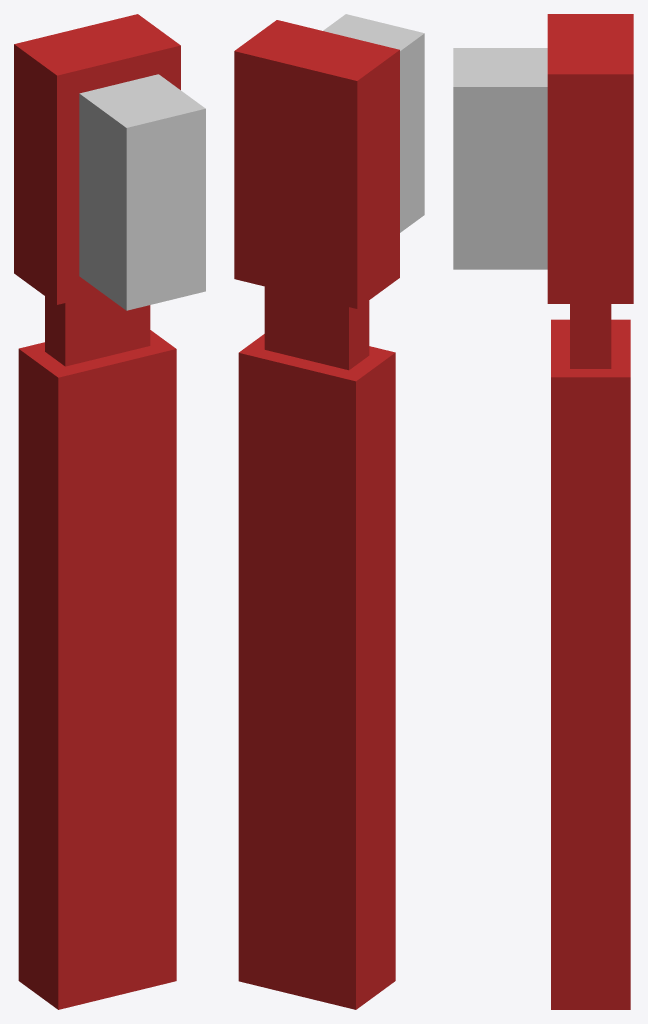
File: Toothbrush_v3.fbx
3 renders of one model, left to right at view 1: azimuth 30°, elevation 25°; view 2: azimuth 150°, elevation 25°; view 3: azimuth 270°, elevation 25°, orthographic.
Parts seen in each view (by area): view 1: pCube1; view 2: pCube1; view 3: pCube1.
Boxes of the visible parts, x1=… form: pCube1: x1=14, y1=14, x2=205, y2=1009; pCube1: x1=234, y1=14, x2=424, y2=1009; pCube1: x1=453, y1=14, x2=633, y2=1009.
Size of the model in its own units: 2.23 by 16.1 by 2.81.
1 material, 1 textured.
